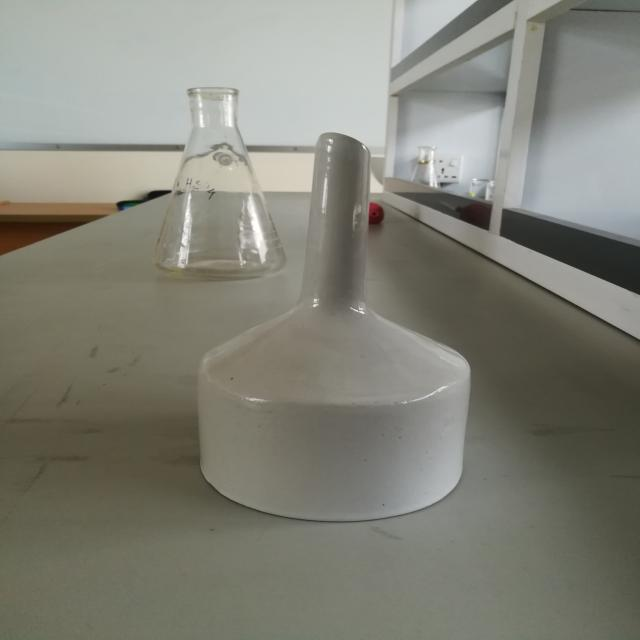Buchner_Funnel: (188, 123, 487, 543)
